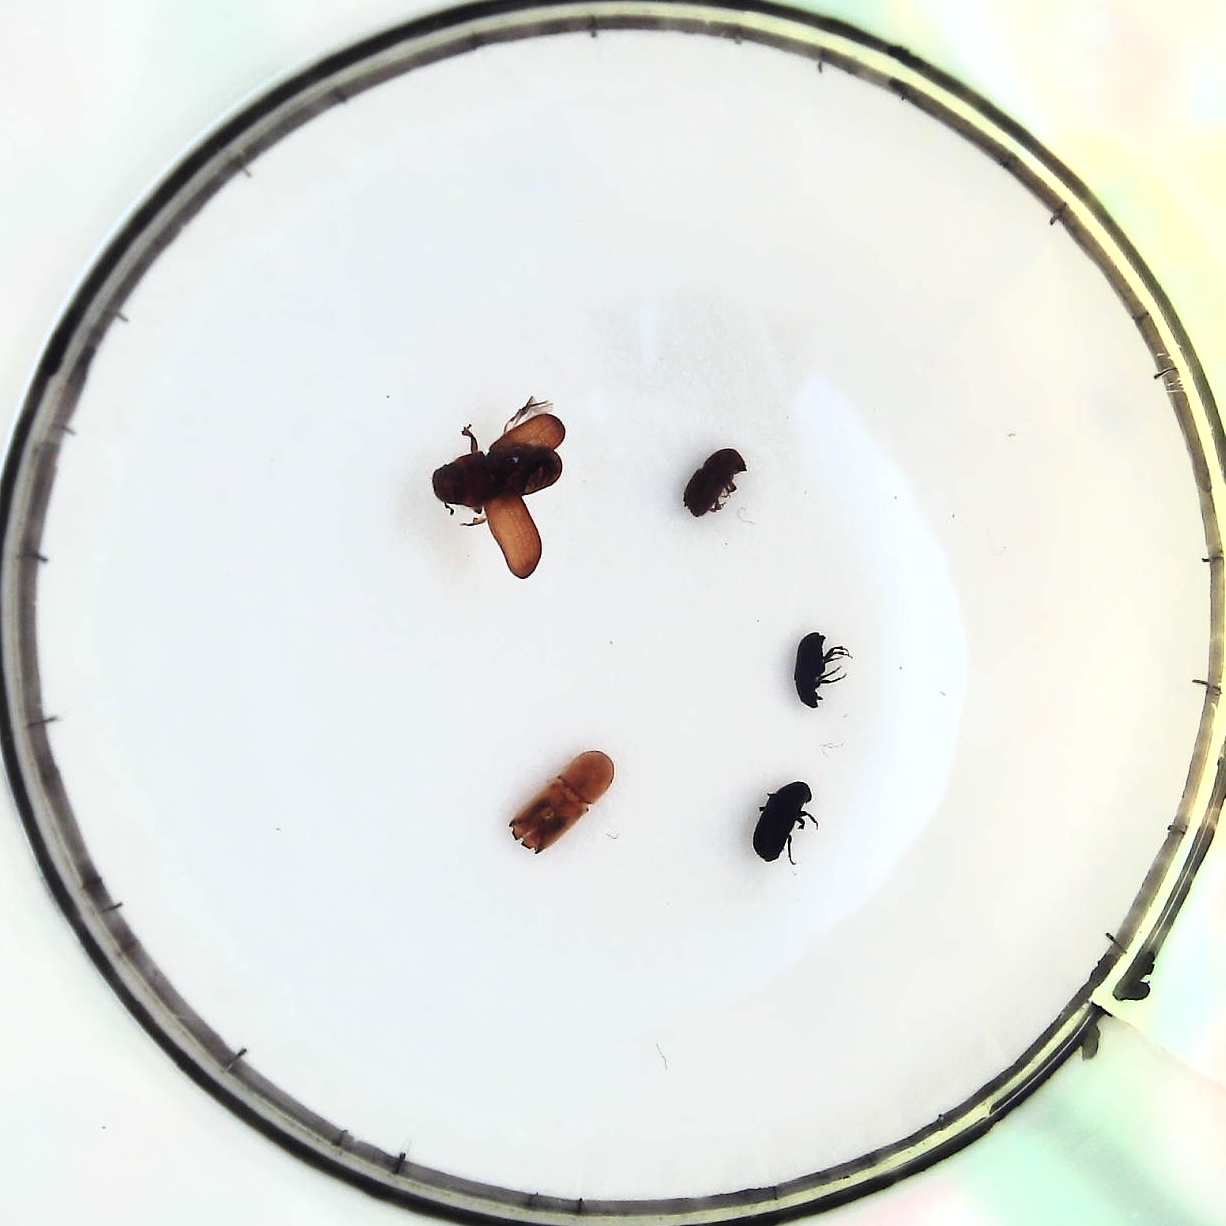Boerner: (514, 751, 616, 861)
Leconte: (434, 409, 569, 580)
Linnaeus: (684, 445, 749, 520)
armandi: (750, 776, 817, 869)
coleoptera: (789, 632, 850, 712)
